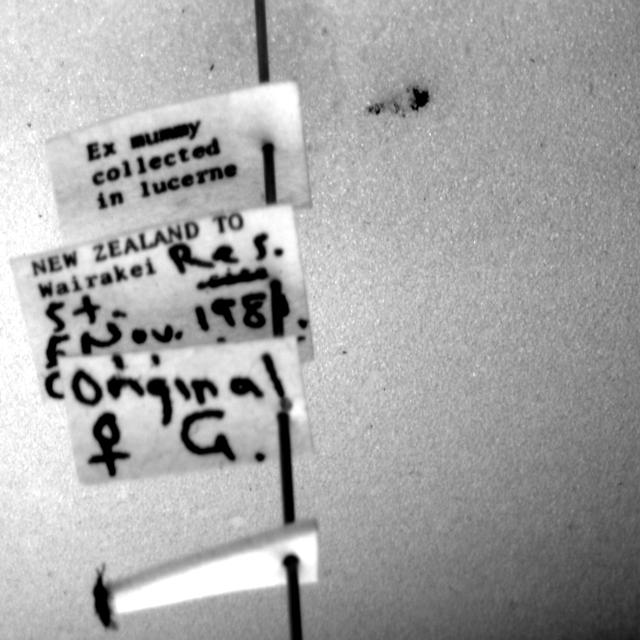hand_label: (60, 338, 312, 486)
mixed_label: (11, 204, 314, 403)
typed_label: (46, 81, 311, 244)
